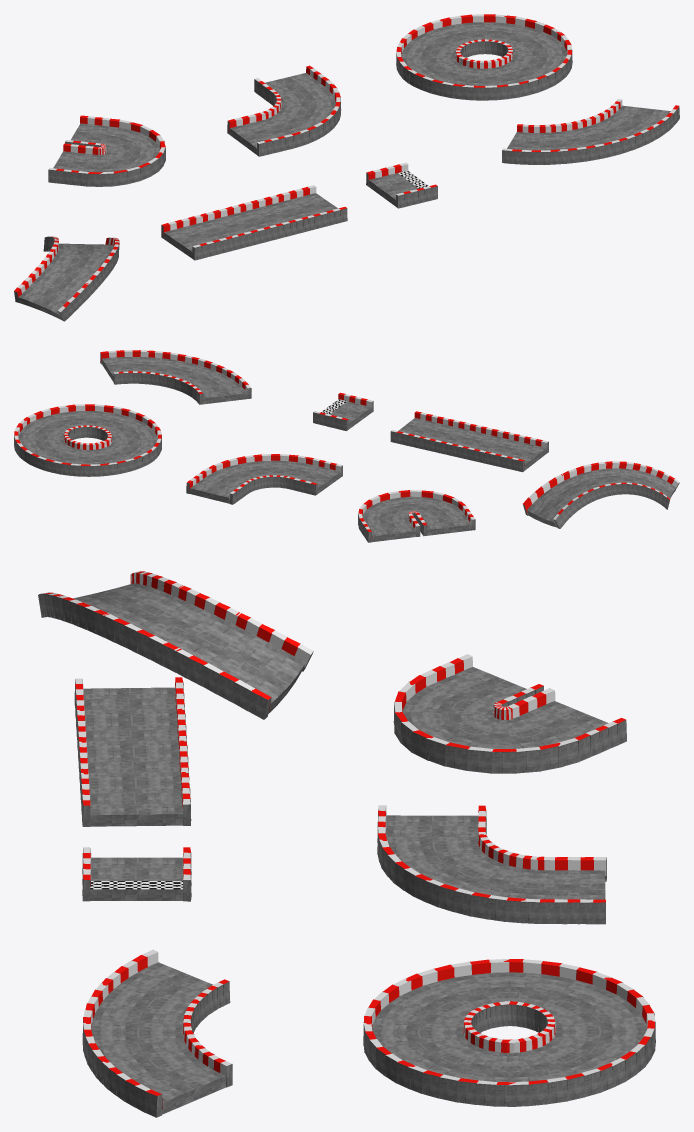
The model's file is road_improved.fbx.
3 views of the same model, one above another, from view 1: azimuth 30°, elevation 25°; view 2: azimuth 150°, elevation 25°; view 3: azimuth 270°, elevation 25° (orthographic). The views are drawn at different scales.
Parts seen in each view (by area): view 1: block.007, block.003, block.005, block.001, block.008, block.006, block.009, Base, Support.001; view 2: block.009, block.001, block.003, block.007, block.008, block.006, block.005, Base, Support; view 3: block.009, block.001, block.008, block.005, block.006, block.003, block.007, Base, finish_ine.002.
Part boxes in pixels (box(x1,y1,x2,y2)): block.007: box(161, 185, 347, 260); block.003: box(502, 99, 679, 164); block.005: box(407, 31, 572, 100); block.001: box(227, 65, 341, 156); block.008: box(48, 115, 165, 186); block.006: box(396, 14, 560, 83); block.009: box(14, 236, 119, 321); Base: box(368, 173, 420, 206); Support.001: box(396, 184, 437, 208); block.009: box(523, 461, 679, 528); block.001: box(186, 454, 342, 504); block.003: box(100, 350, 251, 404); block.007: box(390, 411, 548, 472); block.008: box(358, 490, 475, 542); block.006: box(14, 419, 154, 476); block.005: box(24, 404, 161, 459); Base: box(329, 401, 371, 429); Support: box(313, 411, 348, 430); block.009: box(38, 571, 313, 719); block.001: box(377, 805, 606, 924); block.008: box(393, 654, 626, 773); block.005: box(363, 959, 516, 1106); block.006: box(503, 959, 655, 1106); block.003: box(82, 949, 232, 1117); block.007: box(74, 677, 191, 826); Base: box(90, 857, 182, 900); finish_ine.002: box(90, 881, 182, 889).
Size of the model in its own units: 10318 by 578 by 4887.
Materials: 5 (3 with a texture image).
